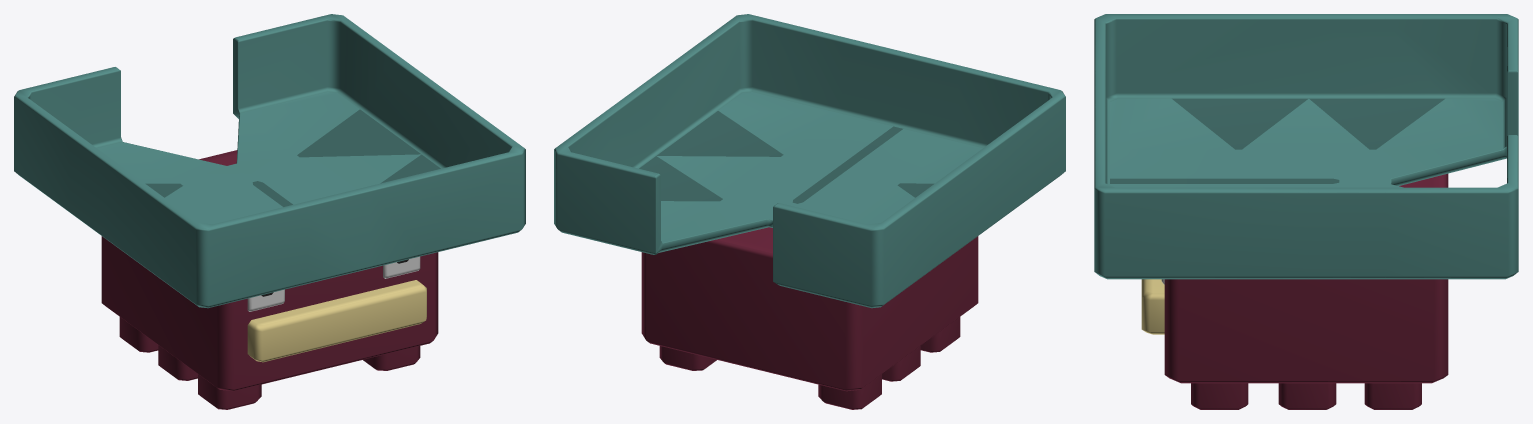
3 renders of one model, left to right at view 1: azimuth 30°, elevation 25°; view 2: azimuth 150°, elevation 25°; view 3: azimuth 270°, elevation 25°, orthographic. The views are drawn at different scales.
Parts seen in each view (by area): view 1: model; view 2: model; view 3: model.
Boxes of the visible parts, <box> form: model: <box>14,14,525,409</box>; model: <box>554,14,1065,409</box>; model: <box>1094,14,1518,409</box>.
Size of the model in its own units: 1.66 by 1.1 by 1.67.
